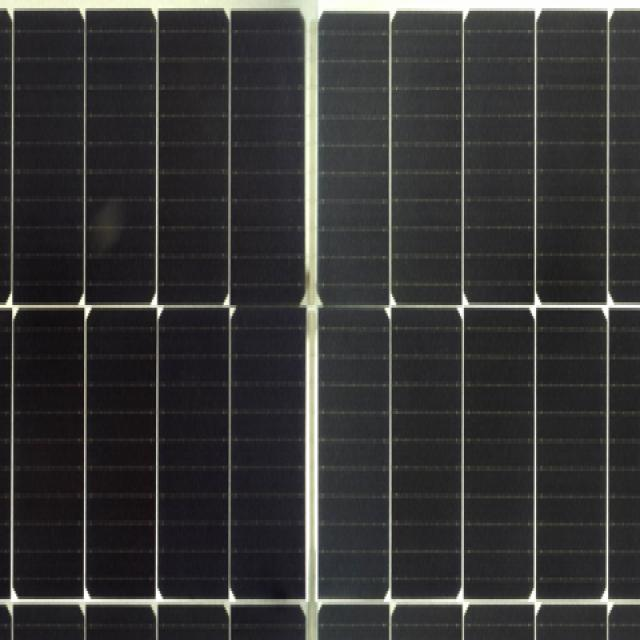CELL SHORT: (317, 283, 391, 327), (232, 289, 300, 321)
